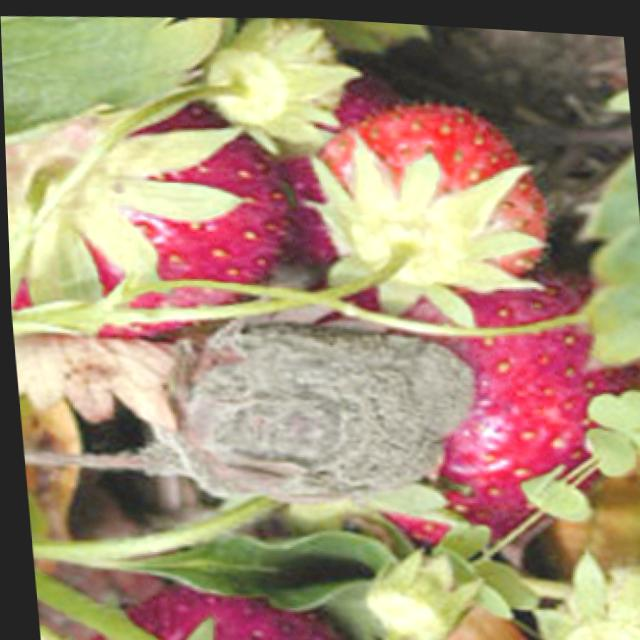Gray Mold: (137, 311, 474, 503)
